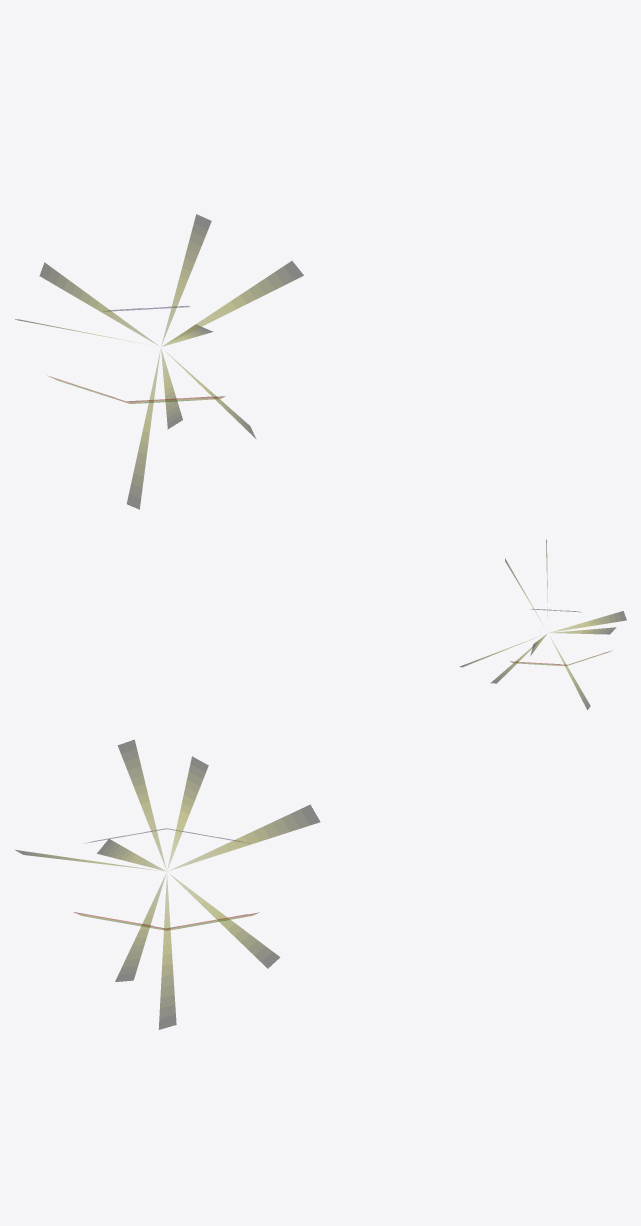
File: 14_efe.gltf
3 renders of one model, top to bottom at view 1: azimuth 30°, elevation 25°; view 2: azimuth 150°, elevation 25°; view 3: azimuth 270°, elevation 25°, orthographic. The views are drawn at different scales.
Bounding box in the file's own units: 2787 × 887 × 1787.
Materials: 2 (2 with a texture image).
